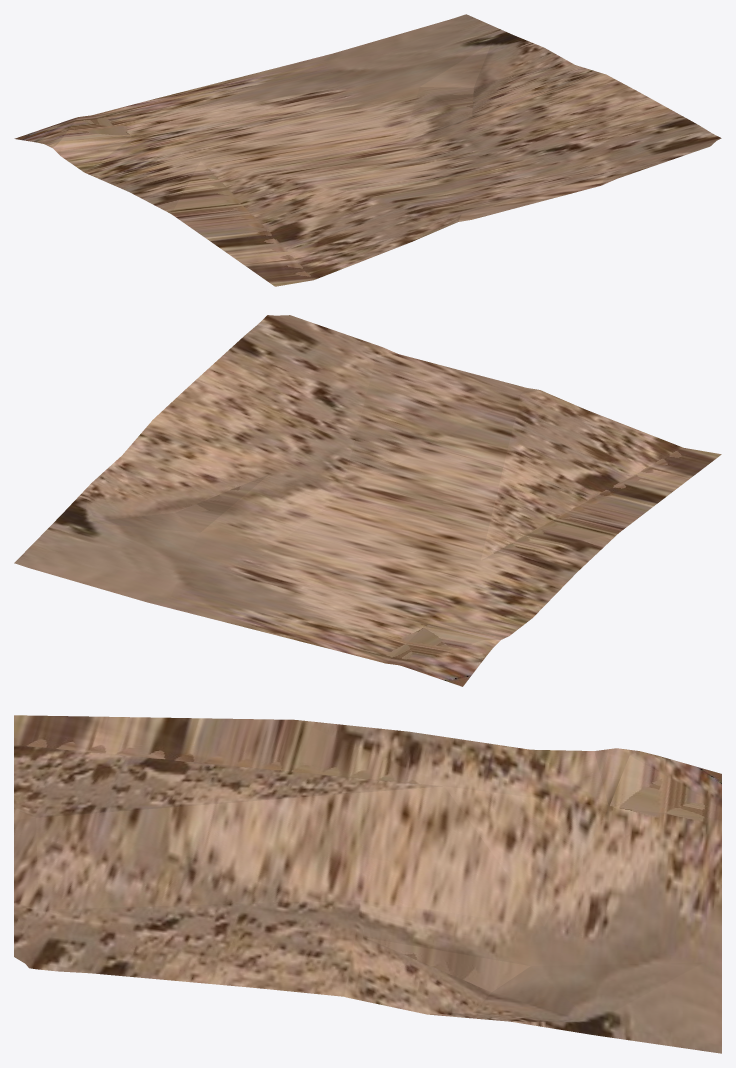
3 renders of one model, top to bottom at view 1: azimuth 30°, elevation 25°; view 2: azimuth 150°, elevation 25°; view 3: azimuth 270°, elevation 25°, orthographic. The views are drawn at different scales.
Bounding box in the file's own units: 1.04 × 0.1708 × 1.04.
3 materials, 3 textured.
